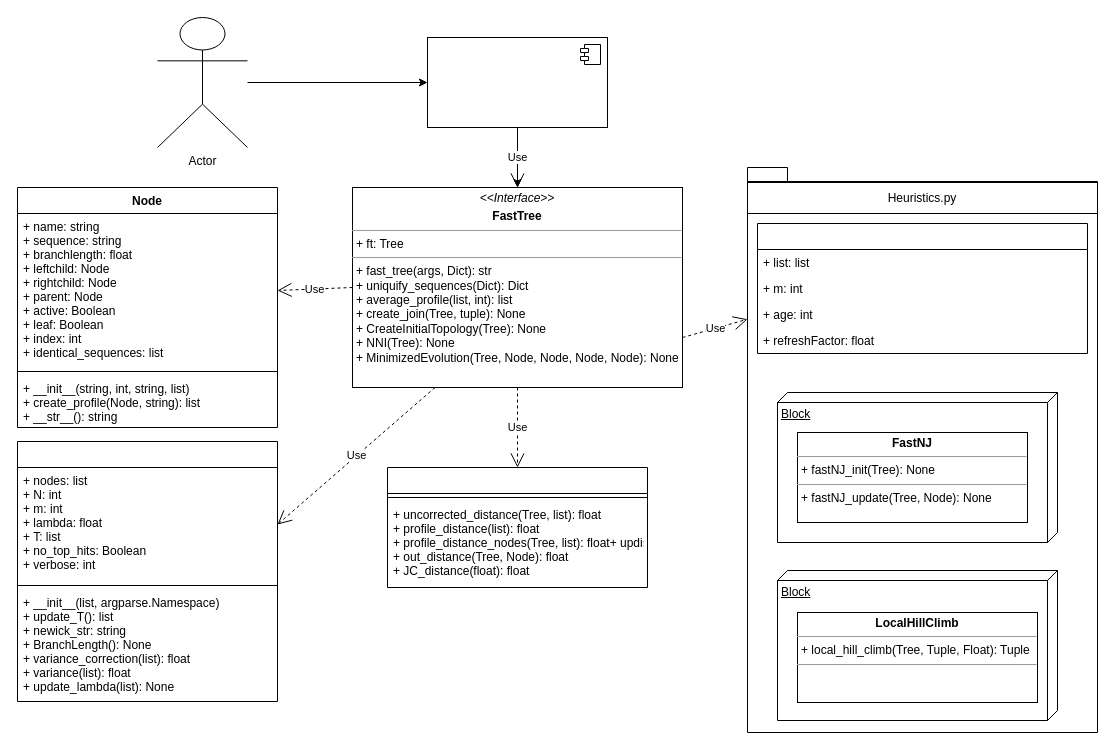
Image size: 1115x750. Some labels were removed from this diagram. The shapes that lost their labels are listed below. From the top down, each one's box as (x1, y1, x2, y2) in pixels, then its label:
(426, 36, 608, 128): Main.py
(756, 222, 1088, 354): <<Class>> TopHits
(386, 466, 648, 588): util
(16, 440, 278, 702): Tree
